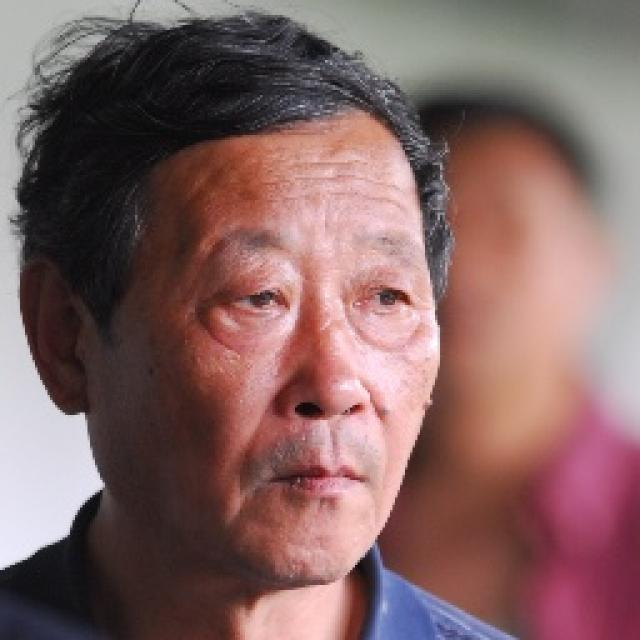earlobe: (39, 364, 90, 416)
eye: (225, 284, 287, 314), (355, 284, 413, 314)
nose: (281, 403, 367, 459)
wholeear: (18, 257, 90, 414)
